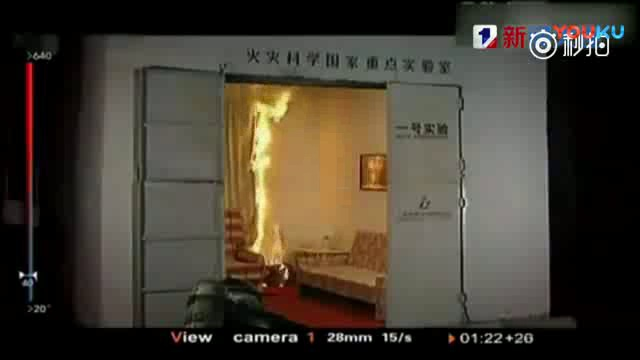fire: (249, 92, 290, 269)
